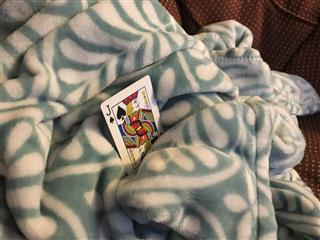JackOfSpades: (99, 74, 165, 176)
